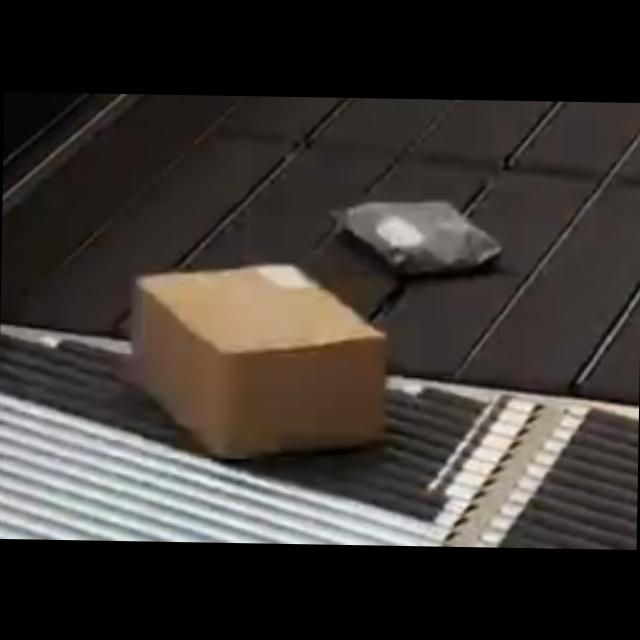box: (128, 258, 386, 464)
mailer: (342, 191, 503, 277)
